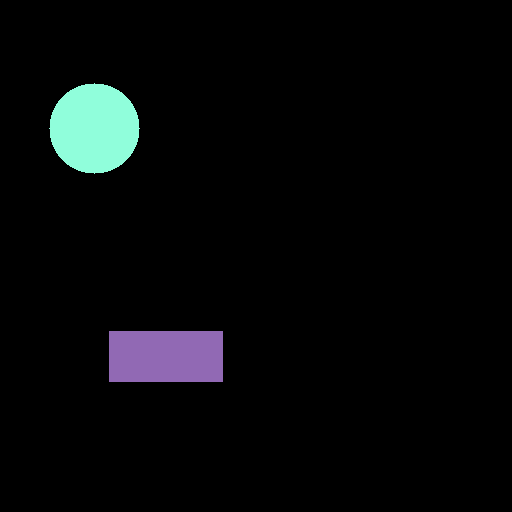circle: (49, 83, 139, 173)
rectangle: (109, 331, 222, 381)
